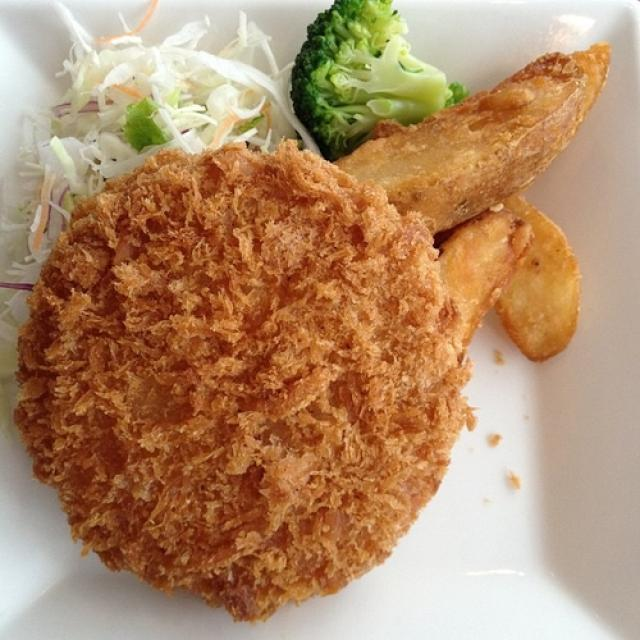炸货点心: (4, 8, 616, 620)
